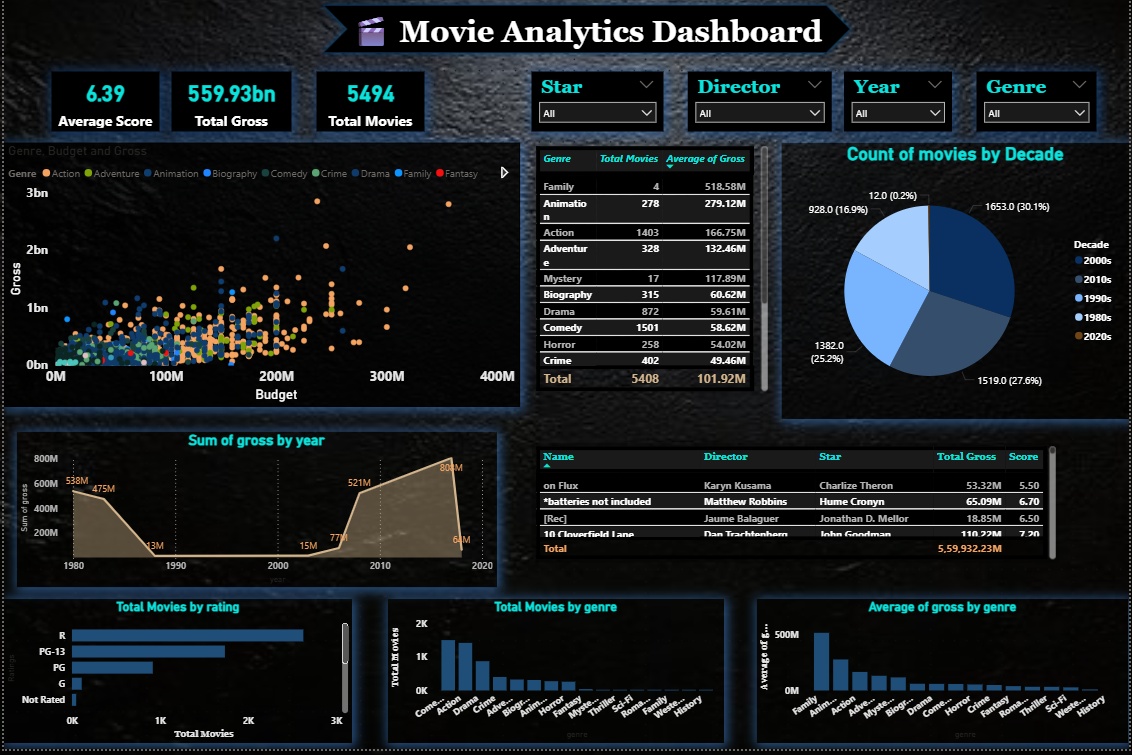

This screenshot's page, from the dashboard's own definition file:
{"tool":"powerbi","page":{"name":"Page 1","canvas":[1500,1000],"ordinal":0},"visuals":[{"type":"clusteredBarChart","fields":{"Category":["movies_cleaned.rating"],"Y":["CountNonNull(movies_cleaned.name)"]},"box":[0,800,464,192],"z":0},{"type":"pieChart","fields":{"Category":["movies_cleaned.decade"],"Y":["CountNonNull(movies_cleaned.name)"]},"box":[1036,192,464,368],"z":1000},{"type":"clusteredColumnChart","fields":{"Category":["movies_cleaned.genre"],"Y":["CountNonNull(movies_cleaned.name)"]},"box":[512,800,448,192],"z":2000},{"type":"clusteredColumnChart","fields":{"Category":["movies_cleaned.genre"],"Y":["Avg(movies_cleaned.gross)"]},"box":[1004,800,496,192],"z":3000},{"type":"tableEx","fields":{"Values":["movies_cleaned.genre","movies_cleaned.name","Avg(movies_cleaned.gross)"]},"box":[704,192,320,336],"z":4000},{"type":"areaChart","fields":{"Category":["movies_cleaned.year"],"Y":["Sum(movies_cleaned.gross)"]},"box":[16,576,640,208],"z":5000},{"type":"tableEx","fields":{"Values":["movies_cleaned.name","movies_cleaned.director","movies_cleaned.star","Sum(movies_cleaned.gross)","movies_cleaned.score"]},"box":[704,592,704,160],"z":6000},{"type":"shape","box":[416,0,720,80],"z":7000},{"type":"card","fields":{"Values":["movies_cleaned.avg_score"]},"box":[64,96,144,80],"z":8000},{"type":"card","fields":{"Values":["movies_cleaned.total_gross"]},"box":[224,96,160,80],"z":9000},{"type":"card","fields":{"Values":["movies_cleaned.total_movies"]},"box":[416,96,144,80],"z":10000},{"type":"scatterChart","fields":{"X":["movies_cleaned.budget"],"Y":["movies_cleaned.gross"],"Series":["movies_cleaned.genre"]},"box":[0,192,688,352],"z":11000},{"type":"slicer","fields":{"Values":["movies_cleaned.year"]},"box":[1120,96,144,80],"z":12000},{"type":"slicer","fields":{"Values":["movies_cleaned.star"]},"box":[704,96,176,80],"z":13000},{"type":"slicer","fields":{"Values":["movies_cleaned.director"]},"box":[912,96,192,80],"z":14000},{"type":"slicer","fields":{"Values":["movies_cleaned.genre"]},"box":[1296,96,160,80],"z":15000}]}

Visuals, with their boxes in screenshot pixels (x1, y1, x2, y2), scaled from the page's 1500x1000 canvas onto the 1132x755 screenshot:
clusteredBarChart - movies_cleaned.rating x CountNonNull(movies_cleaned.name): crop(0, 604, 350, 749)
pieChart - movies_cleaned.decade x CountNonNull(movies_cleaned.name): crop(782, 145, 1131, 423)
clusteredColumnChart - movies_cleaned.genre x CountNonNull(movies_cleaned.name): crop(386, 604, 724, 749)
clusteredColumnChart - movies_cleaned.genre x Avg(movies_cleaned.gross): crop(758, 604, 1131, 749)
tableEx - movies_cleaned.genre x movies_cleaned.name: crop(531, 145, 773, 399)
areaChart - movies_cleaned.year x Sum(movies_cleaned.gross): crop(12, 435, 495, 592)
tableEx - movies_cleaned.name x movies_cleaned.director: crop(531, 447, 1063, 568)
shape: crop(314, 0, 857, 60)
card - movies_cleaned.avg_score: crop(48, 72, 157, 133)
card - movies_cleaned.total_gross: crop(169, 72, 290, 133)
card - movies_cleaned.total_movies: crop(314, 72, 423, 133)
scatterChart - movies_cleaned.budget x movies_cleaned.gross: crop(0, 145, 519, 411)
slicer - movies_cleaned.year: crop(845, 72, 954, 133)
slicer - movies_cleaned.star: crop(531, 72, 664, 133)
slicer - movies_cleaned.director: crop(688, 72, 833, 133)
slicer - movies_cleaned.genre: crop(978, 72, 1099, 133)
